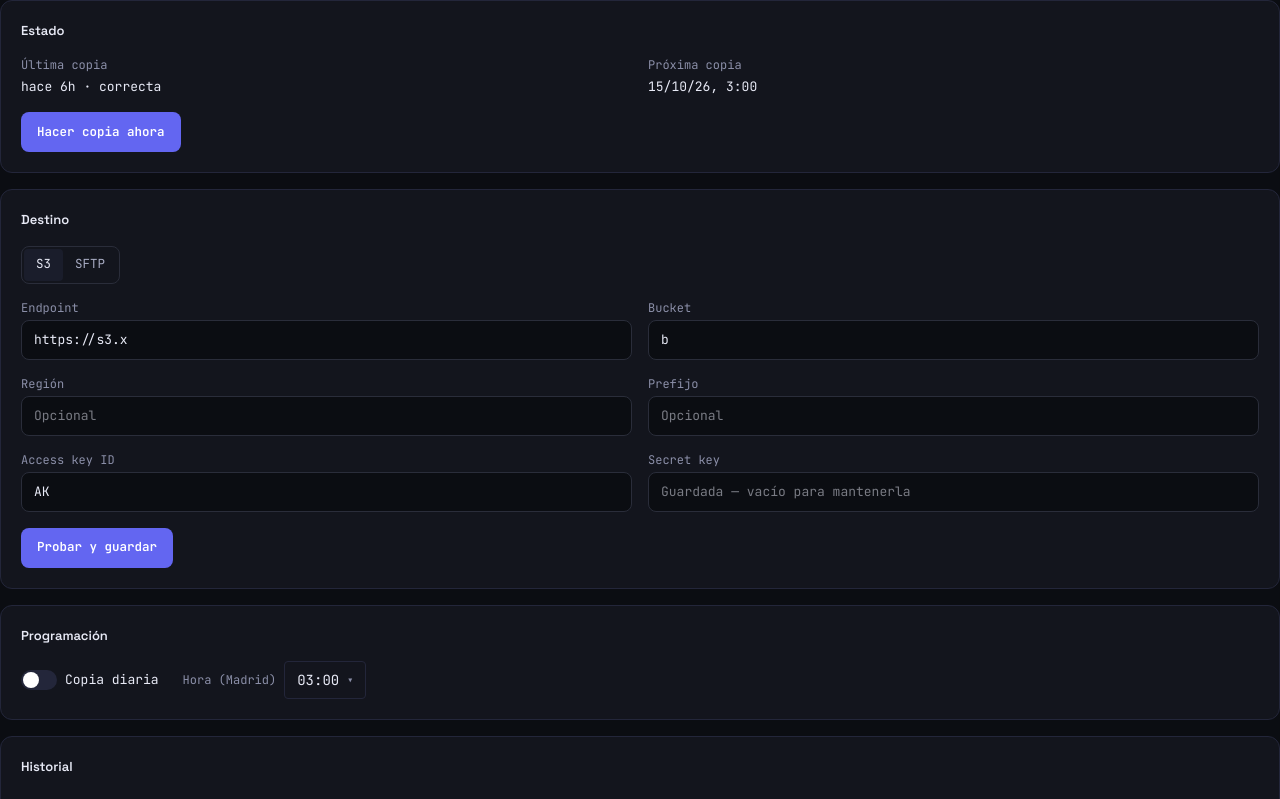
Scenario: ConfiguracionBackups › un error al guardar la programación se muestra y no cambia el interruptor
Click the switch named "Copia diaria".
click(39, 680)  # box [21,670,57,690]
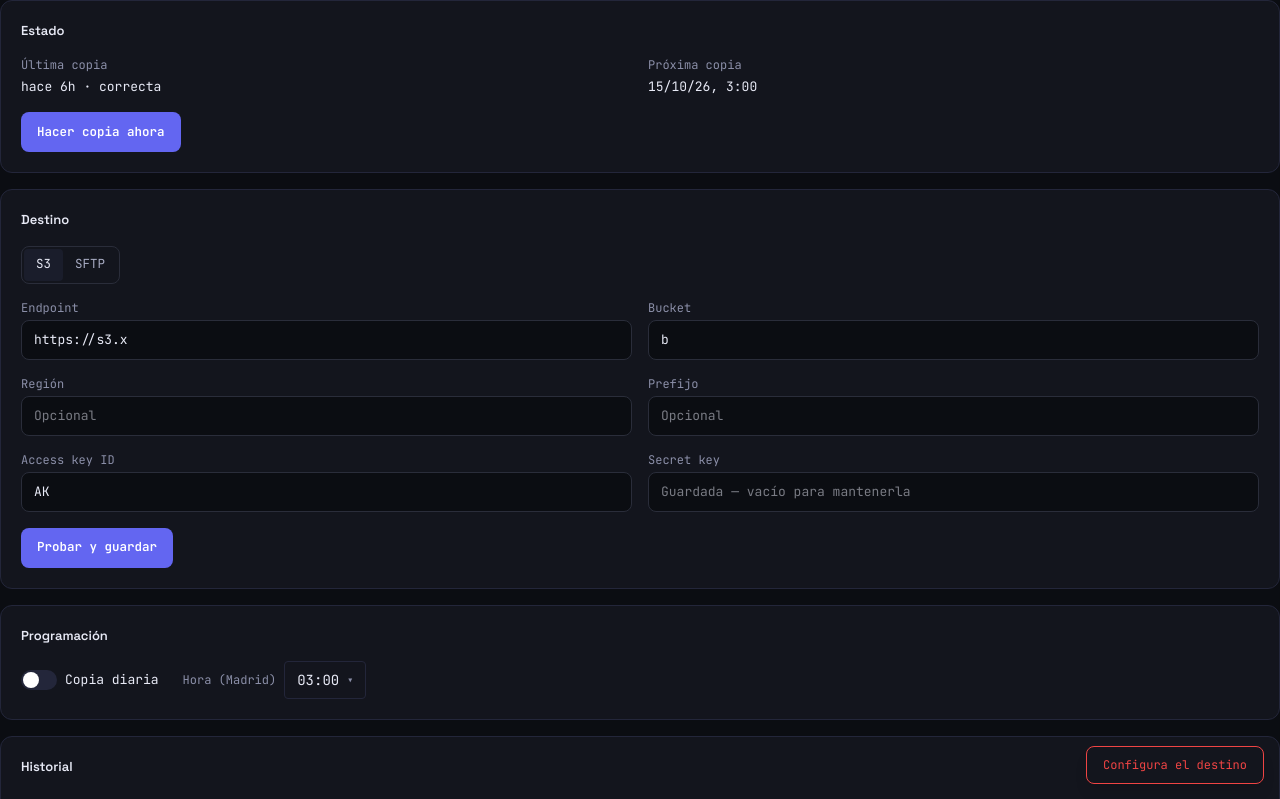
Expected: the text "Configura el destino" is shown, [1086,746,1264,784]
